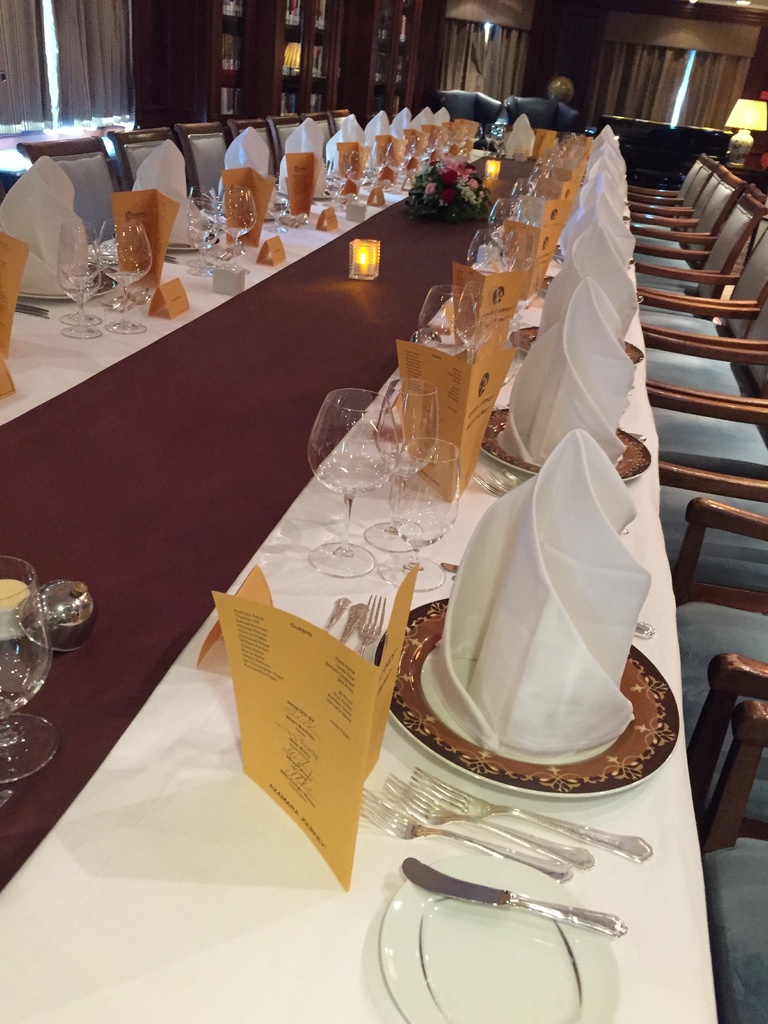plate: (376, 858, 620, 1023)
